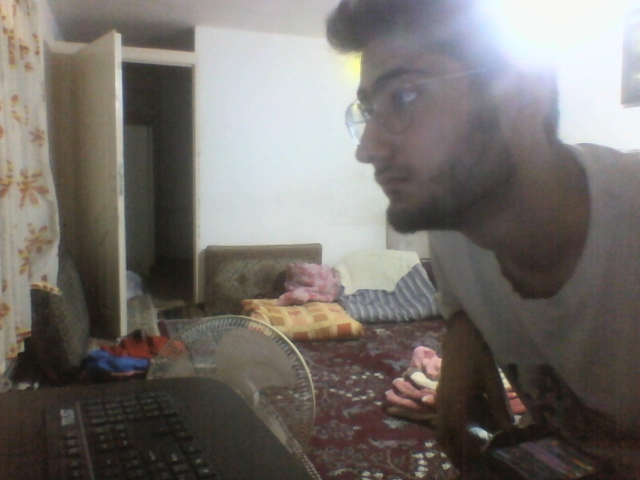sorat: (318, 2, 560, 236)
